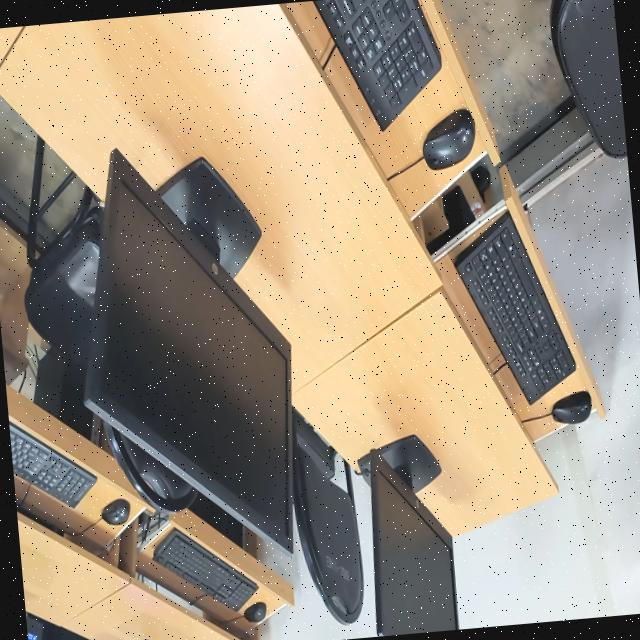Chair: (23, 187, 101, 384), (291, 408, 362, 624), (548, 0, 627, 157), (103, 421, 197, 512), (27, 137, 51, 237)
Cpu: (32, 346, 91, 438)
Keyboard: (454, 212, 575, 402), (313, 0, 439, 129), (152, 527, 256, 610), (8, 420, 95, 507)
Monitor: (83, 149, 291, 553), (356, 434, 457, 636), (24, 613, 42, 640)
Mouse: (422, 108, 474, 169), (550, 390, 590, 423), (100, 498, 129, 524), (243, 601, 265, 621)
